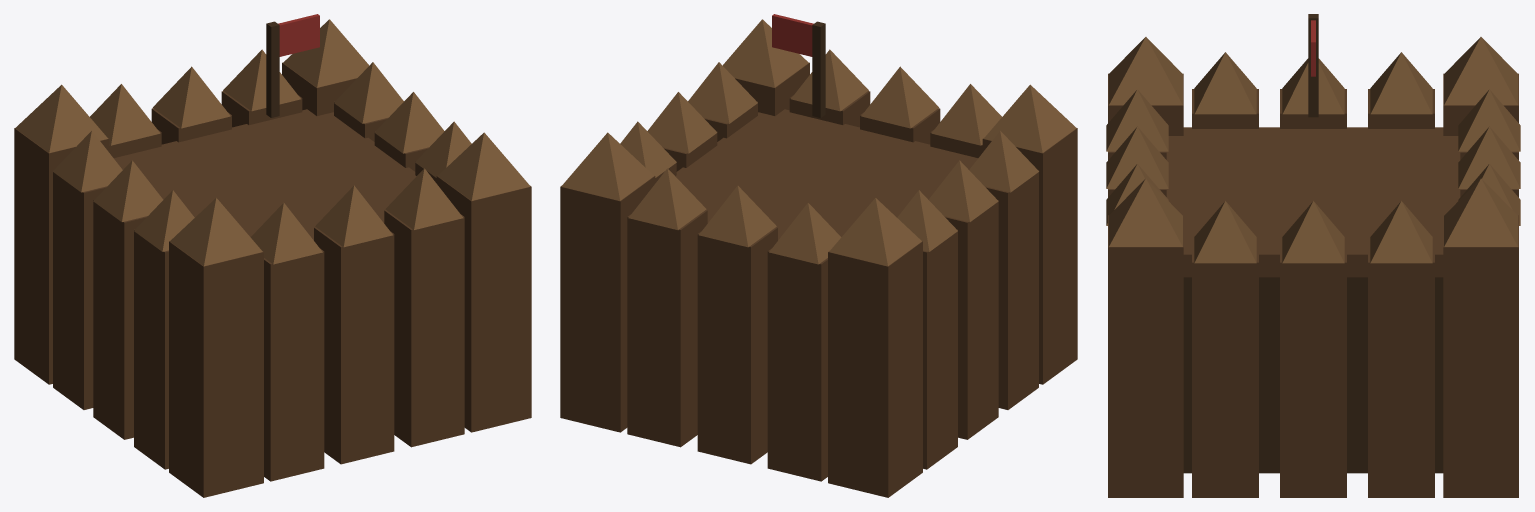
Rendered from wall_lowpoly.glb.
The picture shows the model from 3 angles, left to right: view 1: azimuth 30°, elevation 25°; view 2: azimuth 150°, elevation 25°; view 3: azimuth 270°, elevation 25°; orthographic projection. The views are drawn at different scales.
Visible parts, largest first — view 1: lp_wood_wall; view 2: lp_wood_wall; view 3: lp_wood_wall.
Part boxes in pixels (box(x1,y1,x2,y2)): lp_wood_wall: box(14, 14, 531, 497); lp_wood_wall: box(560, 14, 1077, 497); lp_wood_wall: box(1106, 14, 1520, 497).
Bounding box in the file's own units: 0.9885 × 1.04 × 0.9885.
